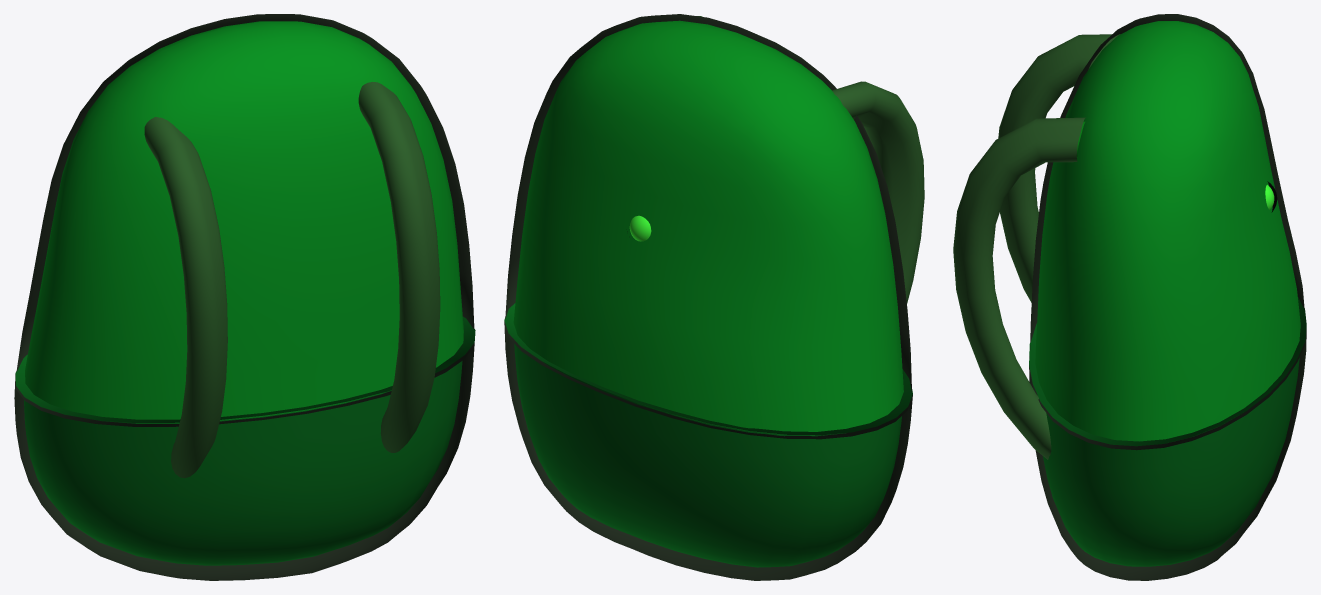
The model's file is Adventure Time Finn's Backpack.fbx.
3 renders of one model, left to right at view 1: azimuth 30°, elevation 25°; view 2: azimuth 150°, elevation 25°; view 3: azimuth 270°, elevation 25°, orthographic. The views are drawn at different scales.
Visible parts, largest first — view 1: Cube.002; view 2: Cube.002; view 3: Cube.002.
Part boxes in pixels (bbox=[...]): Cube.002: bbox=[14, 14, 475, 580]; Cube.002: bbox=[504, 14, 924, 580]; Cube.002: bbox=[953, 14, 1306, 580].
Bounding box in the file's own units: 44.79 × 55.91 × 35.15.
